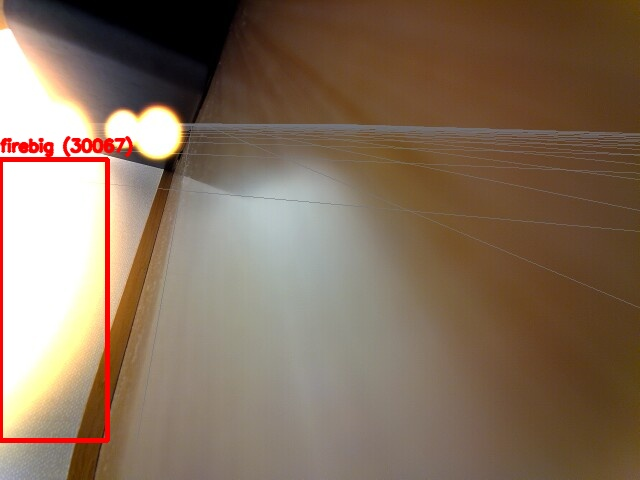firebig: (0, 159, 107, 440)
